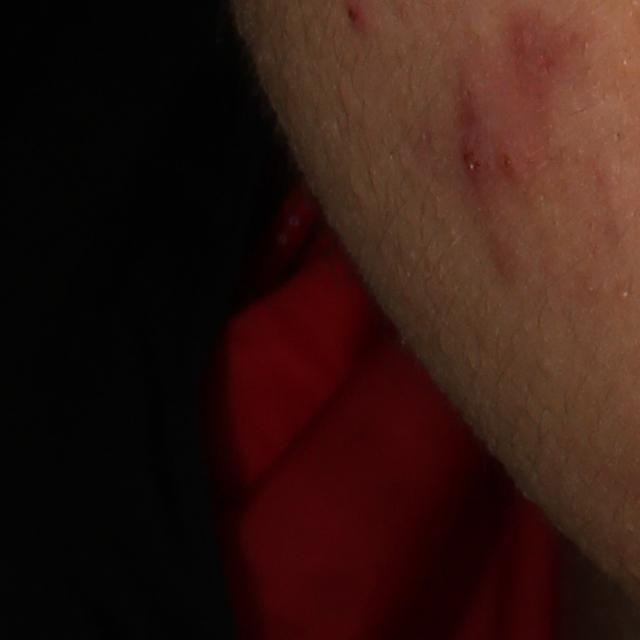nodule: (442, 63, 534, 206)
